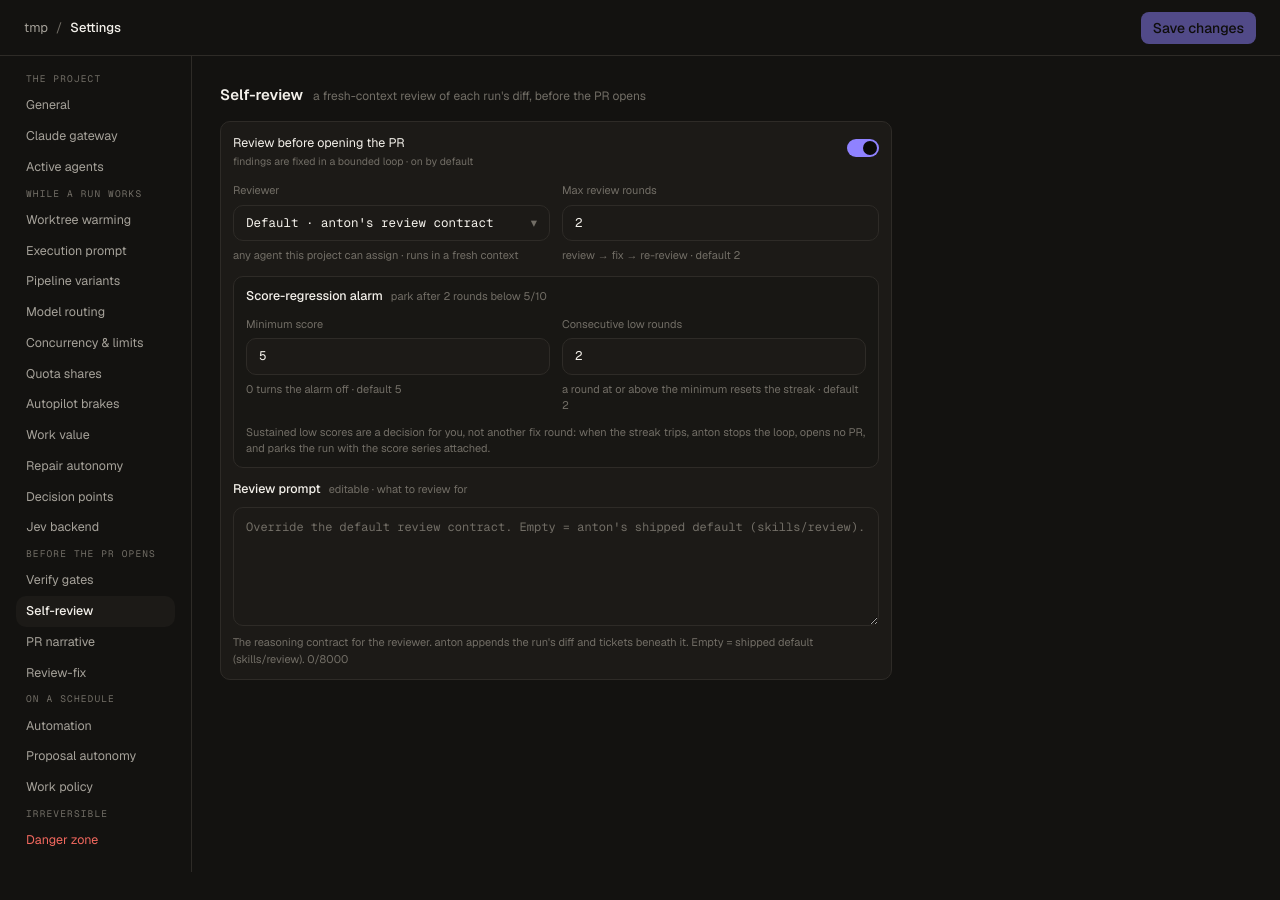
it: SettingsView self-review section (anton-of1m) › describes the review prompt as a fallback once a reviewer is named
Check: the text "Empty = shipped default (skills/review)" is shown, box x1=233 y1=635 x2=813 y2=666
Select "my-reviewer · project" in the dropdown named "Reviewer": x=392, y=223 x1=234 y1=206 x2=549 y2=240
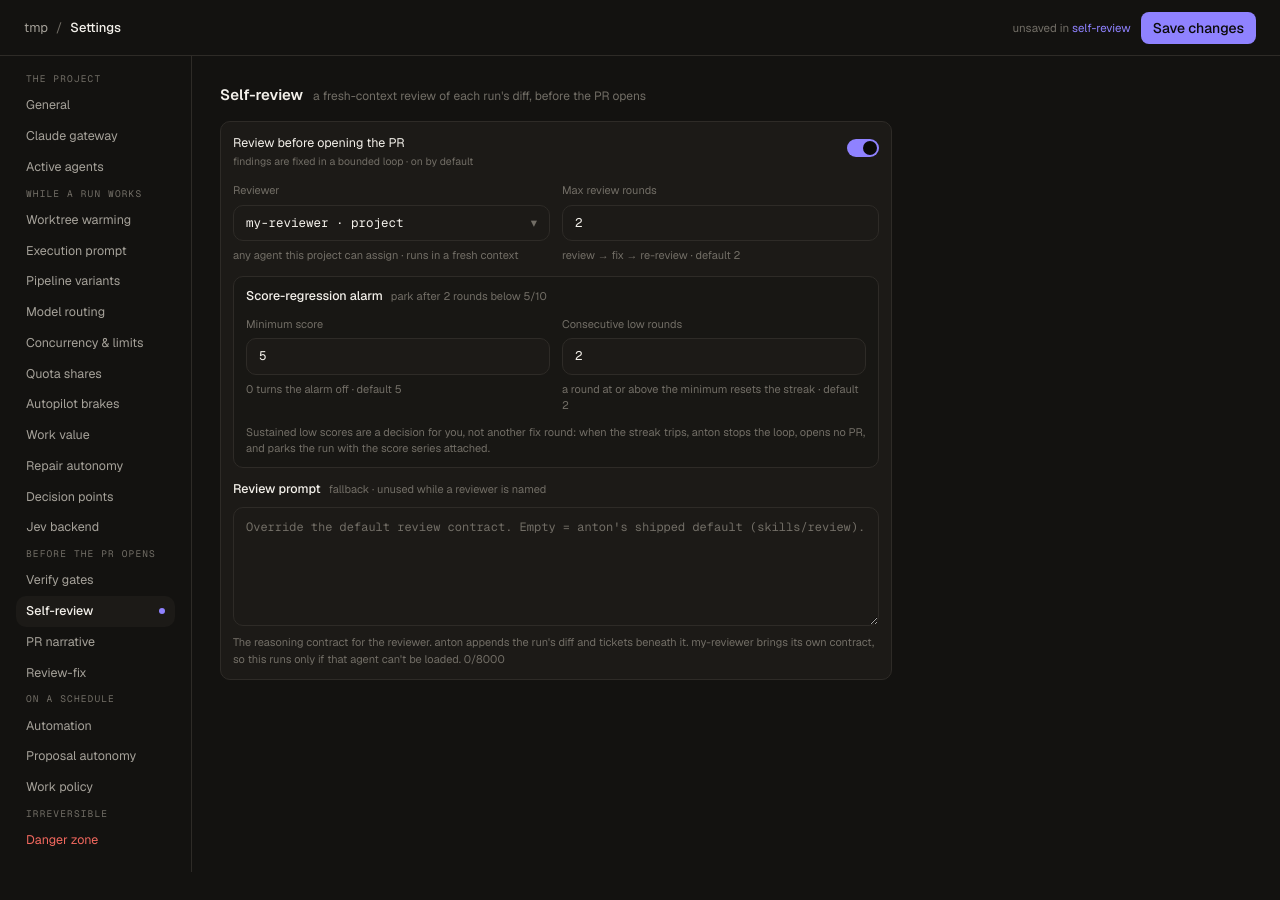
Check: the text "my-reviewer brings its own contract" is shown, box x1=233 y1=635 x2=874 y2=666
Check: the text "Empty = shipped default (skills/review)" is gone
